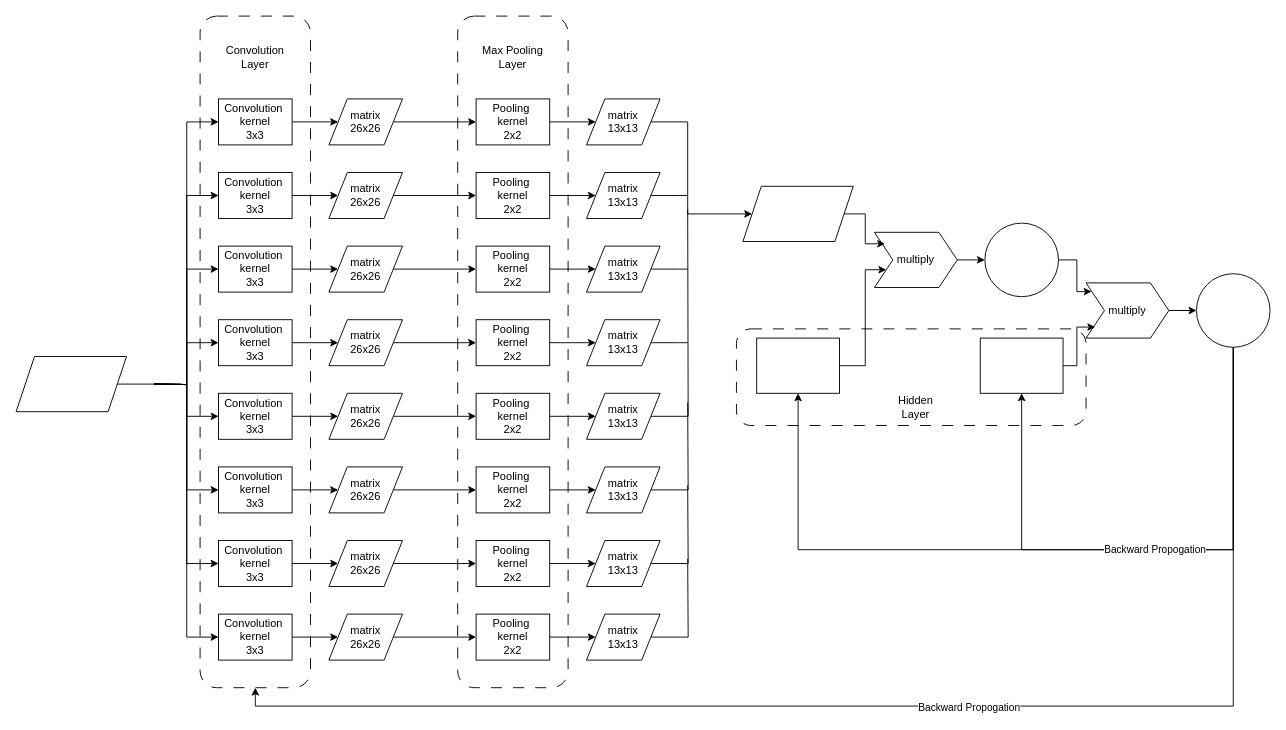
This 1286x730 diagram has some shape labels left out. Here are the shapes that lost their labels. From the top down, the centre of each, then its label:
At (x=797, y=213): "flattened matrix 1x1352".
At (x=1021, y=259): "1x64 neurons".
At (x=1233, y=310): "10 output neurons".
At (x=70, y=384): "input matrix 28x28 (from MNIST)".
At (x=798, y=365): "weight matrix H1 1352x64".
At (x=1021, y=365): "weight matrix H2 64x10".
